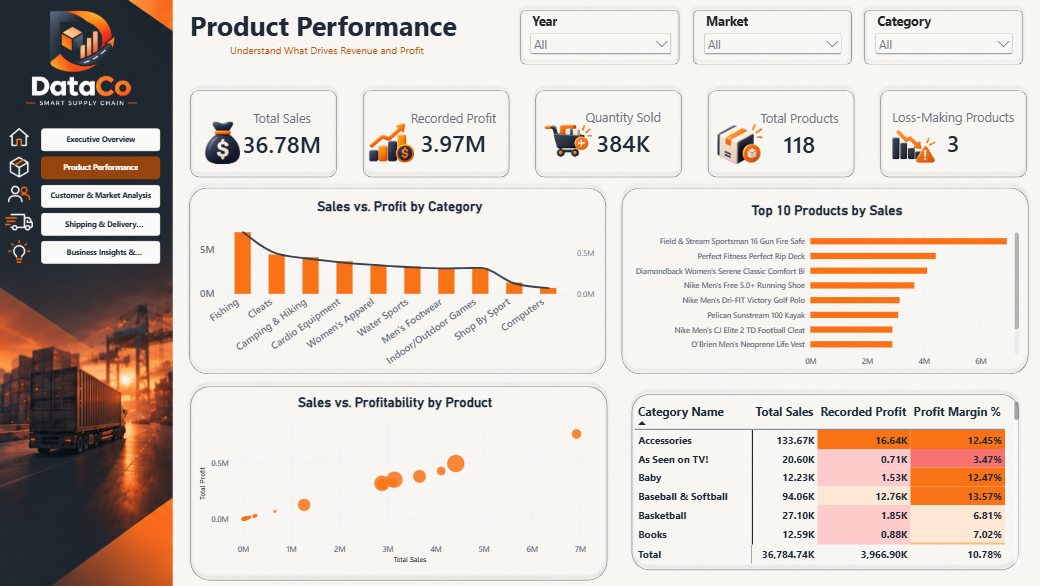

This screenshot's page, from the dashboard's own definition file:
{"tool":"powerbi","page":{"name":"Product Performance","canvas":[1920,1080],"ordinal":1},"visuals":[{"type":"image","box":[0,19.2,491.9,287.8],"z":0},{"type":"textbox","box":[430.2,79.6,438.7,118.6],"z":1000},{"type":"shape","box":[1500,75,272.5,105],"z":2000},{"type":"shape","box":[1225,75,272.5,105],"z":3000},{"type":"shape","box":[950,75,272.5,105],"z":4000},{"type":"slicer","fields":{"Values":["DimDate.Year"]},"box":[970,87.5,235,82.5],"z":5000},{"type":"slicer","fields":{"Values":["DimProduct.Category Name"]},"box":[1522.5,87.5,230,80],"z":6000},{"type":"slicer","fields":{"Values":["FactOrderItems.Market"]},"box":[1247.5,87.5,230,80],"z":7000},{"type":"shape","box":[419.1,360.7,685.1,316.4],"z":8000},{"type":"shape","box":[1112.3,360.7,669,316.4],"z":9000},{"type":"shape","box":[1111,676.7,669.8,329.7],"z":10000},{"type":"shape","box":[421.2,677.1,685.1,328.5],"z":11000},{"type":"clusteredBarChart","title":"Top 10 Products by Sales","fields":{"Category":["DimProduct.Product Name"],"Y":["Measures_.Total Sales"]},"box":[1125,377.5,647.5,297.5],"z":12000},{"type":"shape","box":[421.7,203.2,252.4,157.5],"z":13000},{"type":"shape","box":[973.9,203.2,252.4,157.5],"z":14000},{"type":"shape","box":[1250,203.2,252.4,157.5],"z":15000},{"type":"shape","box":[1526,203.2,252.4,157.5],"z":16000},{"type":"shape","box":[697.8,203.2,252.4,157.5],"z":17000},{"type":"cardVisual","fields":{"Data":["Measures_.Total Products"]},"box":[1323.9,213.6,163.2,141.1],"z":18000},{"type":"cardVisual","fields":{"Data":["Measures_.Quantity Sold"]},"box":[1042.5,212.5,163.2,141.1],"z":19000},{"type":"cardVisual","fields":{"Data":["Measures_.Total Profit"]},"box":[763.7,213.6,176.1,140.6],"z":20000},{"type":"cardVisual","fields":{"Data":["Measures_.Total Sales"]},"box":[491.7,213.6,171.3,141.1],"z":21000},{"type":"cardVisual","fields":{"Data":["Measures_.Loss-Making Products"]},"box":[1531.5,211.6,239.8,141.1],"z":22000},{"type":"pivotTable","fields":{"Rows":["DimProduct.Category Name"],"Values":["Measures_.Total Sales","Measures_.Total Profit","Measures_.Profit Margin %"]},"box":[1125,695,647.5,290],"z":23000},{"type":"image","box":[415,226.2,132.1,133.8],"z":24000},{"type":"image","box":[686.2,232.5,122.5,122.5],"z":25000},{"type":"image","box":[990,244,96,100],"z":26000},{"type":"image","box":[1256.7,243.3,106.7,100],"z":27000},{"type":"image","box":[1545,255,106.7,100],"z":28000},{"type":"lineClusteredColumnComboChart","title":"Sales vs. Profit by Category","fields":{"Category":["DimProduct.Category Name"],"Y":["Measures_.Total Sales"],"Y2":["Measures_.Total Profit"]},"box":[430,372.5,672.5,312.5],"z":29000},{"type":"scatterChart","title":"Sales vs. Profitability by Product","fields":{"Category":["DimProduct.Product Name"],"Size":["Measures_.Quantity Sold"],"X":["Measures_.Total Sales"],"Y":["Measures_.Total Profit"]},"box":[430,685,657.5,300],"z":30000},{"type":"image","box":[0,202.3,382,359.3],"z":31000},{"type":"pageNavigator","box":[191.9,273.8,191.9,219.8],"z":32000}]}

Visuals, with their boxes in screenshot pixels (x1, y1, x2, y2), scaled from the page's 1920x1080 canvas onto the 1040x586 screenshot:
image: left=0, top=10, right=266, bottom=167
textbox: left=233, top=43, right=471, bottom=108
shape: left=812, top=41, right=960, bottom=98
shape: left=664, top=41, right=811, bottom=98
shape: left=515, top=41, right=662, bottom=98
slicer - DimDate.Year: left=525, top=47, right=653, bottom=92
slicer - DimProduct.Category Name: left=825, top=47, right=949, bottom=91
slicer - FactOrderItems.Market: left=676, top=47, right=800, bottom=91
shape: left=227, top=196, right=598, bottom=367
shape: left=602, top=196, right=965, bottom=367
shape: left=602, top=367, right=965, bottom=546
shape: left=228, top=367, right=599, bottom=546
"Top 10 Products by Sales" clusteredBarChart: left=609, top=205, right=960, bottom=366
shape: left=228, top=110, right=365, bottom=196
shape: left=528, top=110, right=664, bottom=196
shape: left=677, top=110, right=814, bottom=196
shape: left=827, top=110, right=963, bottom=196
shape: left=378, top=110, right=515, bottom=196
cardVisual - Measures_.Total Products: left=717, top=116, right=806, bottom=192
cardVisual - Measures_.Quantity Sold: left=565, top=115, right=653, bottom=192
cardVisual - Measures_.Total Profit: left=414, top=116, right=509, bottom=192
cardVisual - Measures_.Total Sales: left=266, top=116, right=359, bottom=192
cardVisual - Measures_.Loss-Making Products: left=830, top=115, right=959, bottom=191
pivotTable - DimProduct.Category Name x Measures_.Total Sales: left=609, top=377, right=960, bottom=534
image: left=225, top=123, right=296, bottom=195
image: left=372, top=126, right=438, bottom=193
image: left=536, top=132, right=588, bottom=187
image: left=681, top=132, right=739, bottom=186
image: left=837, top=138, right=895, bottom=193
"Sales vs. Profit by Category" lineClusteredColumnComboChart: left=233, top=202, right=597, bottom=372
"Sales vs. Profitability by Product" scatterChart: left=233, top=372, right=589, bottom=534
image: left=0, top=110, right=207, bottom=305
pageNavigator: left=104, top=149, right=208, bottom=268
